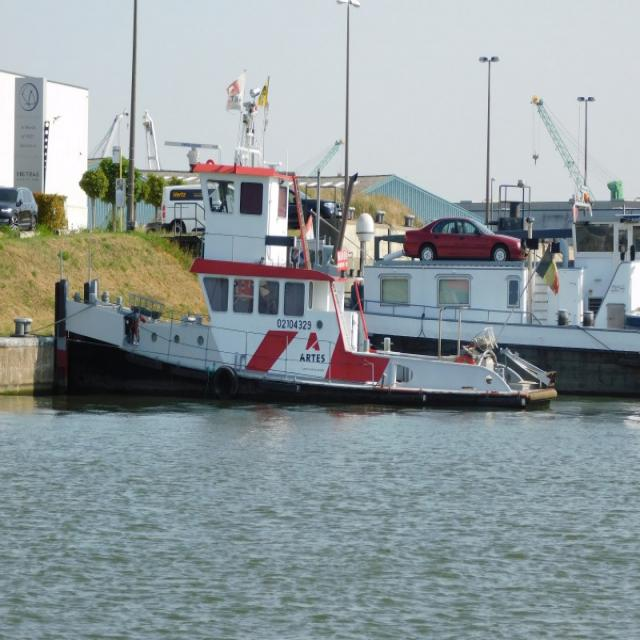tugboat: (49, 63, 565, 432)
